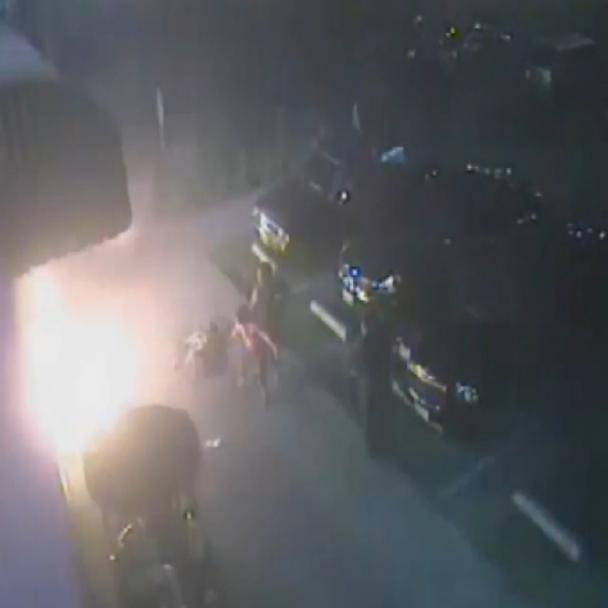Fire: (0, 99, 282, 574)
